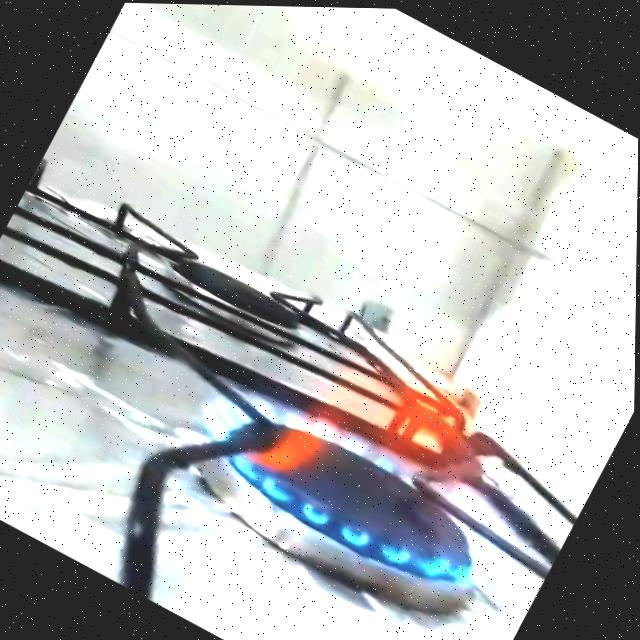Fire: (170, 258, 593, 623)
